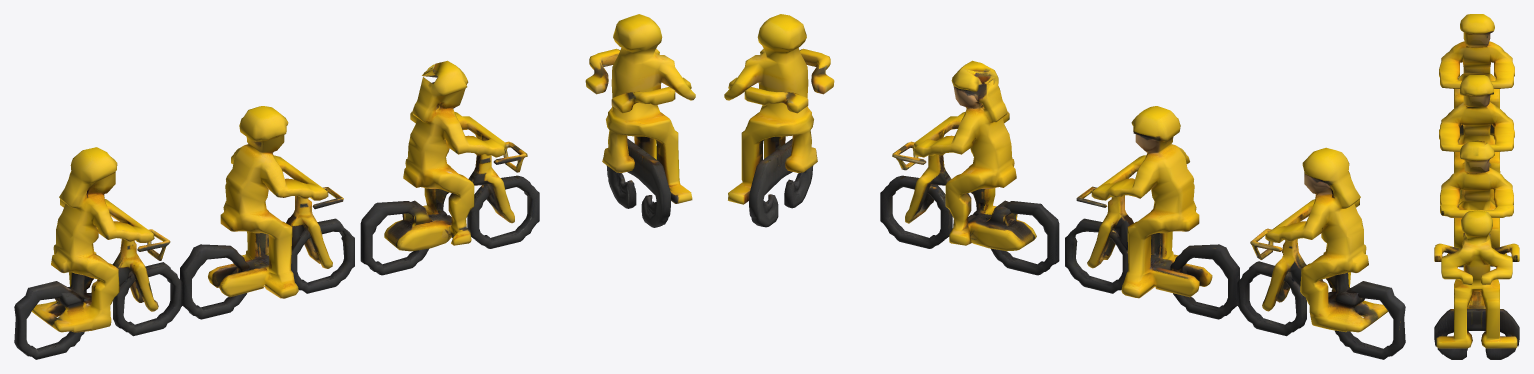
The model's file is shared_bike.glb.
3 views of the same model, side by side, from view 1: azimuth 30°, elevation 25°; view 2: azimuth 150°, elevation 25°; view 3: azimuth 270°, elevation 25° (orthographic). The views are drawn at different scales.
Size of the model in its own units: 2 by 0.5626 by 0.2998.
Materials: 1 (1 with a texture image).
